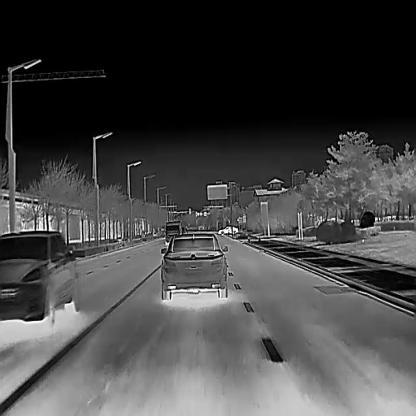car: (0, 228, 81, 324), (159, 231, 228, 300), (164, 219, 181, 243), (218, 223, 239, 235)
